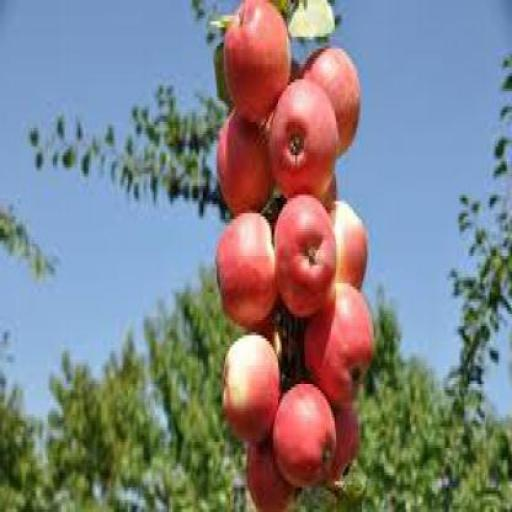biodegradable: (306, 280, 377, 402), (272, 80, 342, 198), (275, 189, 339, 317), (225, 0, 294, 118), (219, 204, 278, 322), (274, 382, 338, 488), (301, 46, 360, 152), (225, 332, 283, 438), (220, 107, 274, 213), (250, 436, 304, 510), (332, 198, 368, 284), (326, 399, 360, 482), (293, 171, 340, 211), (254, 314, 285, 368)
